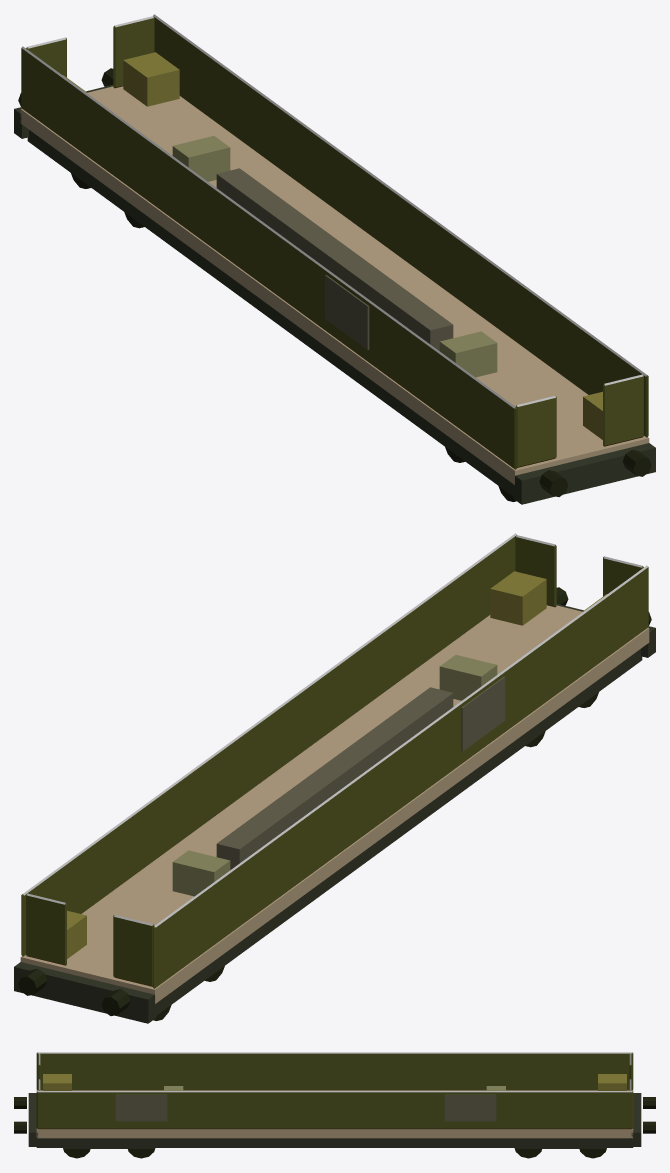
Rendered from SM_R2_VagonTropa_LOD1.fbx.
3 views of the same model, one above another, from view 1: azimuth 30°, elevation 25°; view 2: azimuth 150°, elevation 25°; view 3: azimuth 270°, elevation 25° (orthographic). The views are drawn at different scales.
Visible parts, largest first — view 1: SM_vagon_tropa_r2_LOD1; view 2: SM_vagon_tropa_r2_LOD1; view 3: SM_vagon_tropa_r2_LOD1.
Boxes of the visible parts, x1,y1,x2,y2 form: SM_vagon_tropa_r2_LOD1: (14,14,655,504); SM_vagon_tropa_r2_LOD1: (14,533,655,1023); SM_vagon_tropa_r2_LOD1: (14,1052,655,1158).
Bounding box in the file's own units: 2.97 × 2.55 × 19.9.
